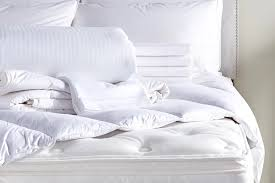bed-matress: (1, 58, 264, 183)
